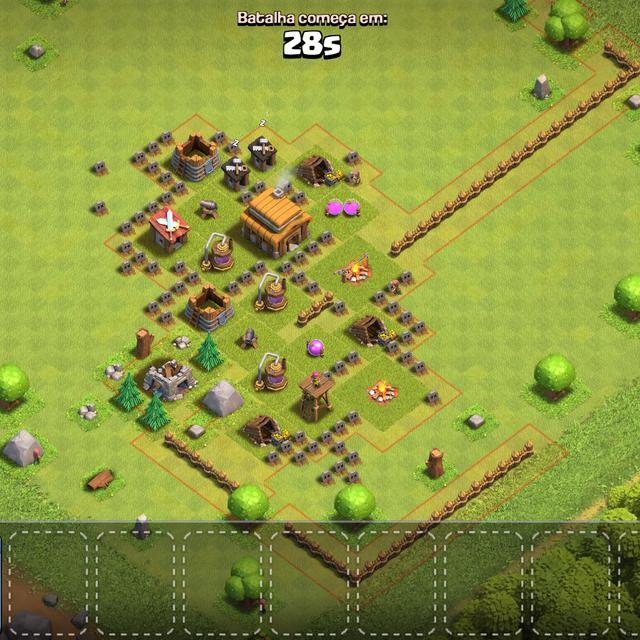Arqueira: (298, 368, 338, 422)
Canhao: (236, 326, 262, 350), (198, 196, 221, 220)
